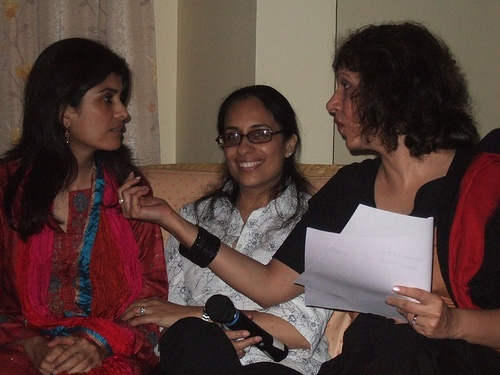head: (321, 20, 411, 159), (208, 77, 302, 193), (37, 39, 131, 154)
person: (301, 13, 500, 375), (120, 76, 332, 375), (1, 30, 180, 372)
